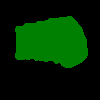mutande: (15, 16, 88, 68)
